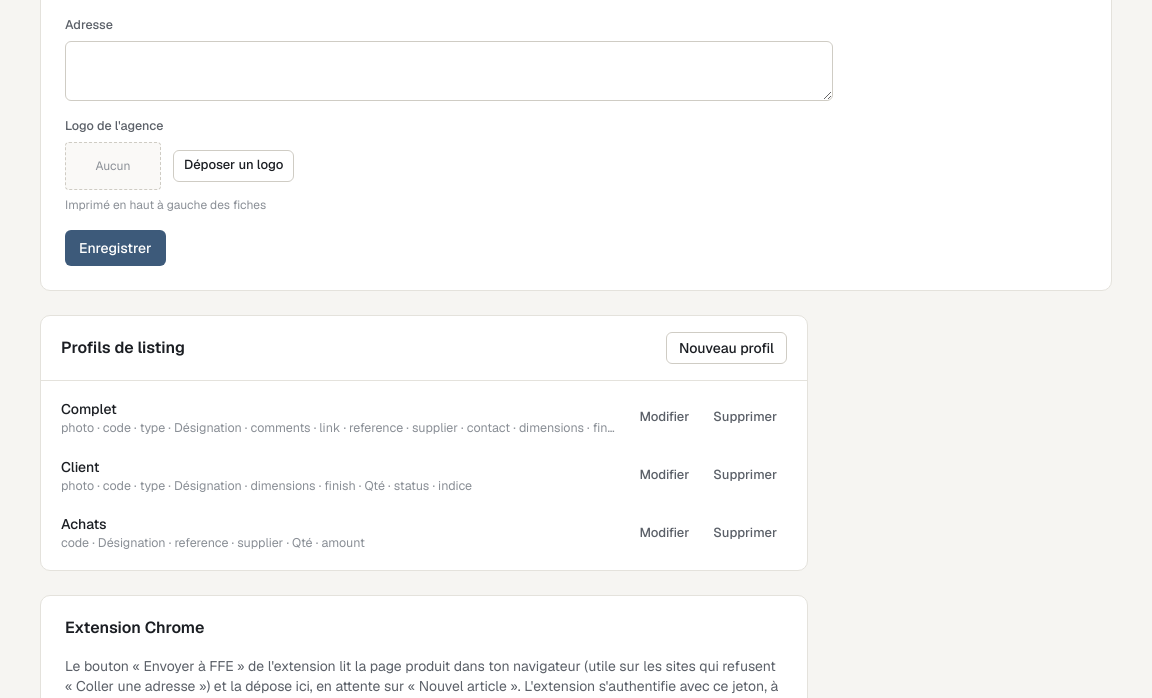
Test: page Réglages › profils de listing : un nom déjà pris est refusé, rien d’enregistré
(page scrolled)
Step 1. Click the button "Nouveau profil" → (726, 348), box [666,332,787,364]
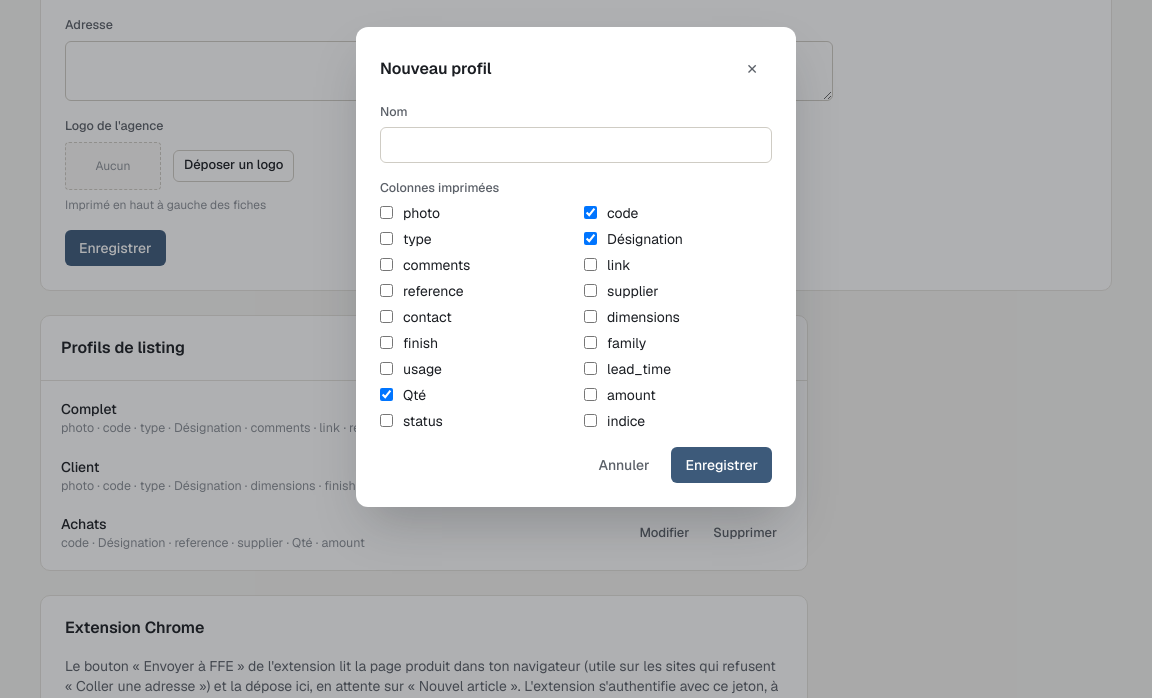
Step 2. Type "client" into the field labelled "Nom" → (576, 145), box [380,127,772,163]
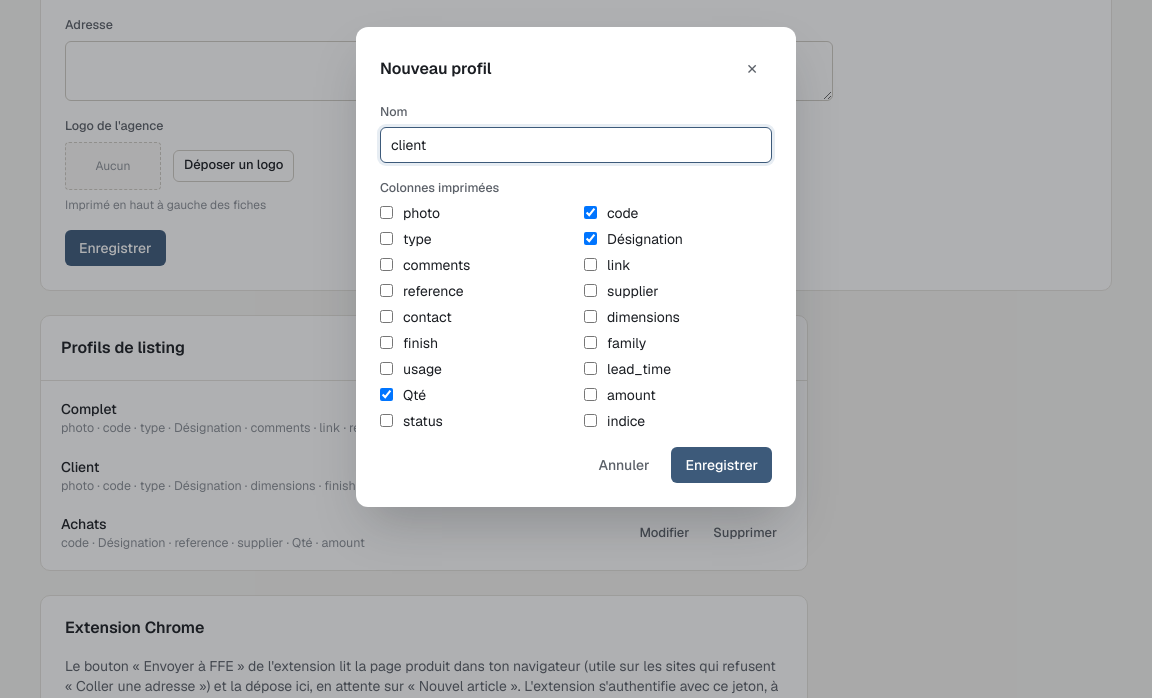
Step 3. Click the button "Enregistrer" → (722, 465), box [672,447,772,483]
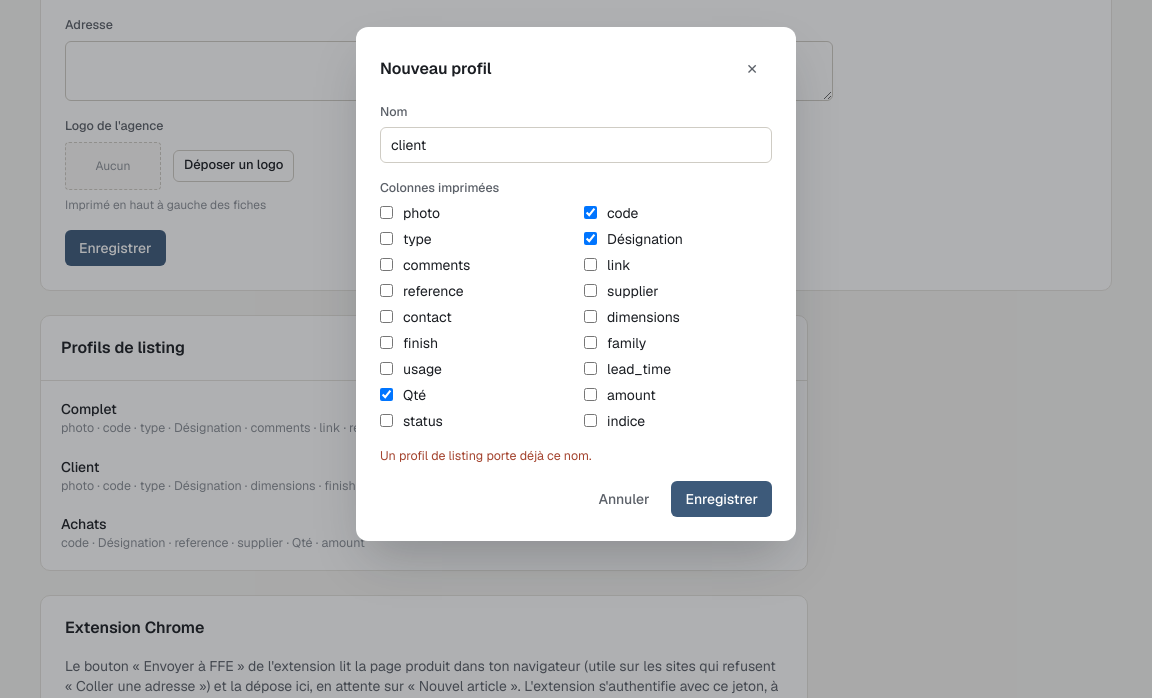
expect the text "Un profil de listing porte déjà ce nom." is shown: met, box [380,447,592,464]
